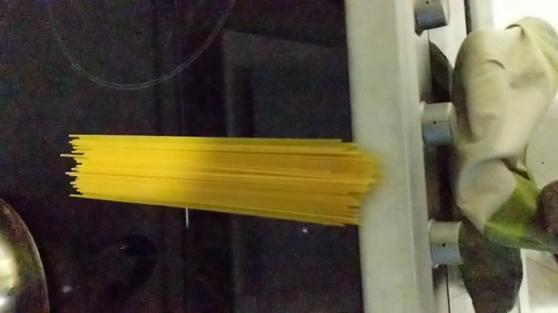spaghetti: (57, 125, 394, 223)
